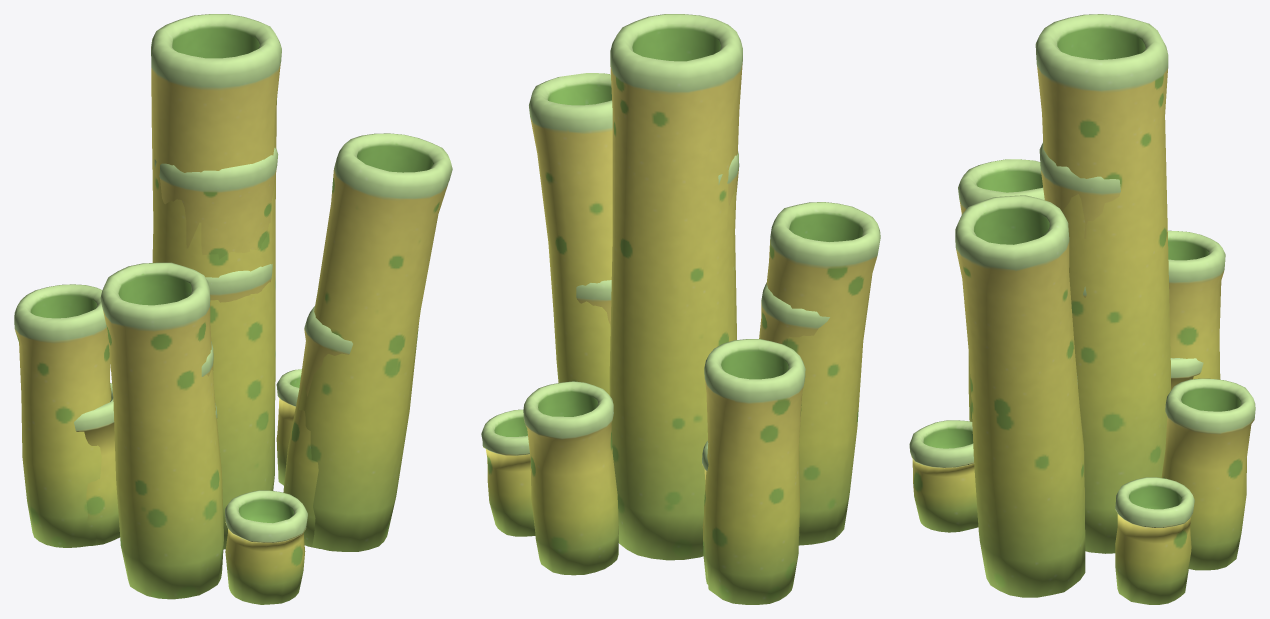
File: TubeSponge_Lemon.fbx
3 renders of one model, left to right at view 1: azimuth 30°, elevation 25°; view 2: azimuth 150°, elevation 25°; view 3: azimuth 270°, elevation 25°, orthographic.
Visible parts, largest first — view 1: TubeSponge_Lemon_S3, TubeSponge_Lemon_S2, TubeSponge_Lemon_S1; view 2: TubeSponge_Lemon_S3, TubeSponge_Lemon_S2; view 3: TubeSponge_Lemon_S3, TubeSponge_Lemon_S2.
Boxes of the visible parts, left/top/right/bottom form: TubeSponge_Lemon_S3: left=14, top=14, right=452, bottom=604; TubeSponge_Lemon_S2: left=74, top=148, right=352, bottom=548; TubeSponge_Lemon_S1: left=205, top=264, right=272, bottom=418; TubeSponge_Lemon_S3: left=481, top=14, right=880, bottom=604; TubeSponge_Lemon_S2: left=576, top=151, right=829, bottom=584; TubeSponge_Lemon_S3: left=909, top=14, right=1255, bottom=604; TubeSponge_Lemon_S2: left=1039, top=142, right=1203, bottom=502.
Bounding box in the file's own units: 0.383 × 0.5293 × 0.3336.
